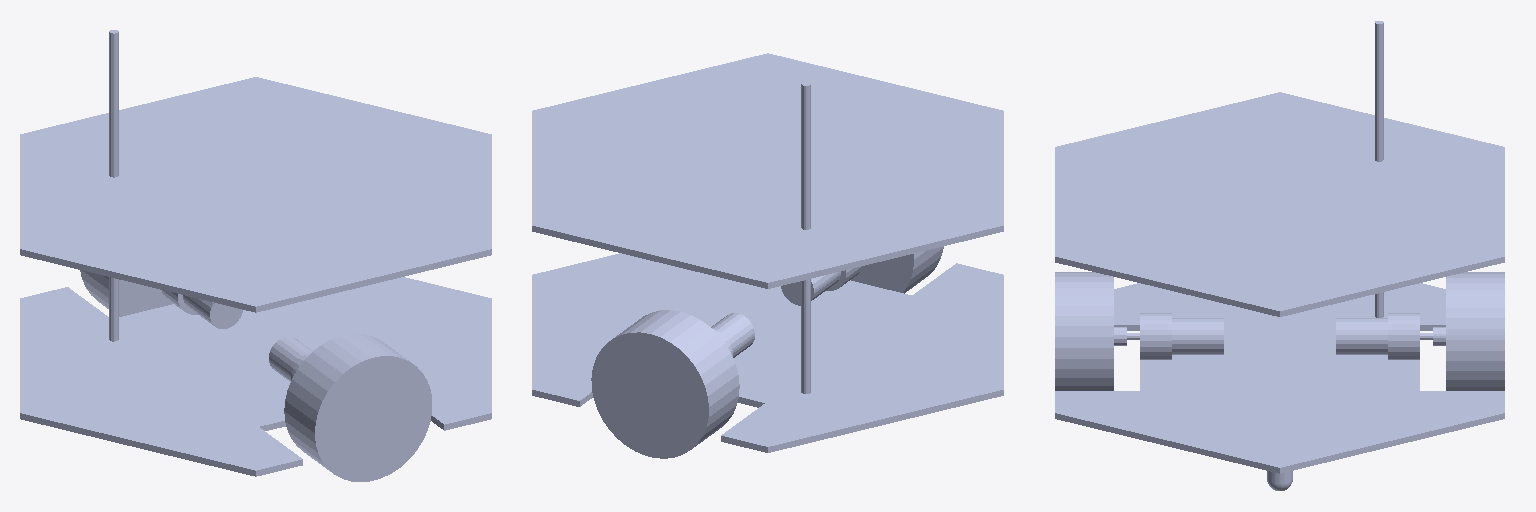
The robot description file, URDF, robot "beebot":
<?xml version="1.0" encoding="utf-8"?>
<!-- This URDF was automatically created by SolidWorks to URDF Exporter! Originally created by [author] ([email redacted]) 
     Commit Version: 1.5.1-0-g916b5db  Build Version: 1.5.7152.31018
     For more information, please see http://wiki.ros.org/sw_urdf_exporter -->
<robot
  name="beebot">
  <link
    name="base_link">
    <inertial>
      <origin
        xyz="-5.5511E-17 0 -0.0025"
        rpy="0 0 0" />
      <mass
        value="0.5" />
      <inertia
        ixx="0.0027593"
        ixy="3.2016E-20"
        ixz="5.1244E-22"
        iyy="0.0042374"
        iyz="-1.2762E-21"
        izz="0.006995" />
    </inertial>
    <visual>
      <origin
        xyz="0 0 0"
        rpy="0 0 0" />
      <geometry>
        <mesh
          filename="package://beebot/meshes/base_link.STL" />
      </geometry>
      <material
        name="">
        <color
          rgba="0.79216 0.81961 0.93333 1" />
      </material>
    </visual>
    <collision>
      <origin
        xyz="0 0 0"
        rpy="0 0 0" />
      <geometry>
        <mesh
          filename="package://beebot/meshes/base_link.STL" />
      </geometry>
    </collision>
  </link>
  <link
    name="rmotor">
    <inertial>
      <origin
        xyz="0.027211 0 0"
        rpy="0 0 0" />
      <mass
        value="0.75" />
      <inertia
        ixx="7.1598E-06"
        ixy="-4.0968E-38"
        ixz="2.5362E-22"
        iyy="2.4995E-05"
        iyz="-9.4953E-39"
        izz="2.4995E-05" />
    </inertial>
    <visual>
      <origin
        xyz="0 0 0"
        rpy="0 0 0" />
      <geometry>
        <mesh
          filename="package://beebot/meshes/rmotor.STL" />
      </geometry>
      <material
        name="">
        <color
          rgba="0.79216 0.81961 0.93333 1" />
      </material>
    </visual>
    <collision>
      <origin
        xyz="0 0 0"
        rpy="0 0 0" />
      <geometry>
        <mesh
          filename="package://beebot/meshes/rmotor.STL" />
      </geometry>
    </collision>
  </link>
  <joint
    name="base_to_rmotor"
    type="fixed">
    <origin
      xyz="0 -0.10821 0.0185"
      rpy="1.5708 0 1.5708" />
    <parent
      link="base_link" />
    <child
      link="rmotor" />
    <axis
      xyz="0 0 0" />
  </joint>
  <link
    name="rwheel">
    <inertial>
      <origin
        xyz="-0.032363 0 -5.5511E-17"
        rpy="0 0 0" />
      <mass
        value="0.35" />
      <inertia
        ixx="0.00044184"
        ixy="3.3923E-21"
        ixz="4.7782E-19"
        iyy="0.0002819"
        iyz="-2.7105E-20"
        izz="0.0002819" />
    </inertial>
    <visual>
      <origin
        xyz="0 0 0"
        rpy="0 0 0" />
      <geometry>
        <mesh
          filename="package://beebot/meshes/rwheel.STL" />
      </geometry>
      <material
        name="">
        <color
          rgba="0.79216 0.81961 0.93333 1" />
      </material>
    </visual>
    <collision>
      <origin
        xyz="0 0 0"
        rpy="0 0 0" />
      <geometry>
        <mesh
          filename="package://beebot/meshes/rwheel.STL" />
      </geometry>
    </collision>
  </link>
  <joint
    name="rmotor_to_rwheel"
    type="continuous">
    <origin
      xyz="-0.01 0 0"
      rpy="-0.59281 0 0" />
    <parent
      link="rmotor" />
    <child
      link="rwheel" />
    <axis
      xyz="1 0 0" />
  </joint>
  <link
    name="lmotor">
    <inertial>
      <origin
        xyz="0.027211 0 6.1062E-16"
        rpy="0 0 0" />
      <mass
        value="0.75" />
      <inertia
        ixx="7.1598E-06"
        ixy="4.5955E-36"
        ixz="-3.9079E-19"
        iyy="2.4995E-05"
        iyz="-9.5046E-36"
        izz="2.4995E-05" />
    </inertial>
    <visual>
      <origin
        xyz="0 0 0"
        rpy="0 0 0" />
      <geometry>
        <mesh
          filename="package://beebot/meshes/lmotor.STL" />
      </geometry>
      <material
        name="">
        <color
          rgba="0.79216 0.81961 0.93333 1" />
      </material>
    </visual>
    <collision>
      <origin
        xyz="0 0 0"
        rpy="0 0 0" />
      <geometry>
        <mesh
          filename="package://beebot/meshes/lmotor.STL" />
      </geometry>
    </collision>
  </link>
  <joint
    name="base_to_lmotor"
    type="fixed">
    <origin
      xyz="0 0.10821 0.0185"
      rpy="-1.5708 0 -1.5708" />
    <parent
      link="base_link" />
    <child
      link="lmotor" />
    <axis
      xyz="0 0 0" />
  </joint>
  <link
    name="lwheel">
    <inertial>
      <origin
        xyz="-0.032363 -5.3846E-15 -6.3283E-15"
        rpy="0 0 0" />
      <mass
        value="0.35" />
      <inertia
        ixx="0.00044184"
        ixy="-2.0982E-20"
        ixz="2.1683E-18"
        iyy="0.0002819"
        iyz="-2.7105E-20"
        izz="0.0002819" />
    </inertial>
    <visual>
      <origin
        xyz="0 0 0"
        rpy="0 0 0" />
      <geometry>
        <mesh
          filename="package://beebot/meshes/lwheel.STL" />
      </geometry>
      <material
        name="">
        <color
          rgba="0.79216 0.81961 0.93333 1" />
      </material>
    </visual>
    <collision>
      <origin
        xyz="0 0 0"
        rpy="0 0 0" />
      <geometry>
        <mesh
          filename="package://beebot/meshes/lwheel.STL" />
      </geometry>
    </collision>
  </link>
  <joint
    name="lmotor_to_lwheel"
    type="continuous">
    <origin
      xyz="-0.01 0 0"
      rpy="-2.6739 0 0" />
    <parent
      link="lmotor" />
    <child
      link="lwheel" />
    <axis
      xyz="1 0 0" />
  </joint>
  <link
    name="stud1">
    <inertial>
      <origin
        xyz="2.7756E-17 0.125 0"
        rpy="0 0 0" />
      <mass
        value="0.25" />
      <inertia
        ixx="5.014E-05"
        ixy="-8.1342E-39"
        ixz="9.9568E-57"
        iyy="5.8929E-08"
        iyz="-1.7467E-38"
        izz="5.014E-05" />
    </inertial>
    <visual>
      <origin
        xyz="0 0 0"
        rpy="0 0 0" />
      <geometry>
        <mesh
          filename="package://beebot/meshes/stud1.STL" />
      </geometry>
      <material
        name="">
        <color
          rgba="0.79216 0.81961 0.93333 1" />
      </material>
    </visual>
    <collision>
      <origin
        xyz="0 0 0"
        rpy="0 0 0" />
      <geometry>
        <mesh
          filename="package://beebot/meshes/stud1.STL" />
      </geometry>
    </collision>
  </link>
  <joint
    name="base_to_stud1"
    type="fixed">
    <origin
      xyz="0.076513 0.076513 0"
      rpy="1.5708 0 1.5708" />
    <parent
      link="base_link" />
    <child
      link="stud1" />
    <axis
      xyz="0 1 0" />
  </joint>
  <link
    name="stud2">
    <inertial>
      <origin
        xyz="0 0.125 0"
        rpy="0 0 0" />
      <mass
        value="0.25" />
      <inertia
        ixx="5.014E-05"
        ixy="-8.1342E-39"
        ixz="9.9568E-57"
        iyy="5.8929E-08"
        iyz="-1.7467E-38"
        izz="5.014E-05" />
    </inertial>
    <visual>
      <origin
        xyz="0 0 0"
        rpy="0 0 0" />
      <geometry>
        <mesh
          filename="package://beebot/meshes/stud2.STL" />
      </geometry>
      <material
        name="">
        <color
          rgba="0.79216 0.81961 0.93333 1" />
      </material>
    </visual>
    <collision>
      <origin
        xyz="0 0 0"
        rpy="0 0 0" />
      <geometry>
        <mesh
          filename="package://beebot/meshes/stud2.STL" />
      </geometry>
    </collision>
  </link>
  <joint
    name="base_to_stud2"
    type="fixed">
    <origin
      xyz="0.076513 -0.076513 0"
      rpy="1.5708 0 1.5708" />
    <parent
      link="base_link" />
    <child
      link="stud2" />
    <axis
      xyz="0 1 0" />
  </joint>
  <link
    name="stud3">
    <inertial>
      <origin
        xyz="-2.7756E-17 0.125 2.7756E-17"
        rpy="0 0 0" />
      <mass
        value="0.25" />
      <inertia
        ixx="5.014E-05"
        ixy="-8.1342E-39"
        ixz="9.9568E-57"
        iyy="5.8929E-08"
        iyz="-1.7467E-38"
        izz="5.014E-05" />
    </inertial>
    <visual>
      <origin
        xyz="0 0 0"
        rpy="0 0 0" />
      <geometry>
        <mesh
          filename="package://beebot/meshes/stud3.STL" />
      </geometry>
      <material
        name="">
        <color
          rgba="0.79216 0.81961 0.93333 1" />
      </material>
    </visual>
    <collision>
      <origin
        xyz="0 0 0"
        rpy="0 0 0" />
      <geometry>
        <mesh
          filename="package://beebot/meshes/stud3.STL" />
      </geometry>
    </collision>
  </link>
  <joint
    name="base_to_stud3"
    type="fixed">
    <origin
      xyz="-0.076513 0.076513 0"
      rpy="1.5708 0 1.5708" />
    <parent
      link="base_link" />
    <child
      link="stud3" />
    <axis
      xyz="0 1 0" />
  </joint>
  <link
    name="stud4">
    <inertial>
      <origin
        xyz="0 0.125 -2.7756E-17"
        rpy="0 0 0" />
      <mass
        value="0.25" />
      <inertia
        ixx="5.014E-05"
        ixy="-8.1342E-39"
        ixz="9.9568E-57"
        iyy="5.8929E-08"
        iyz="-1.7467E-38"
        izz="5.014E-05" />
    </inertial>
    <visual>
      <origin
        xyz="0 0 0"
        rpy="0 0 0" />
      <geometry>
        <mesh
          filename="package://beebot/meshes/stud4.STL" />
      </geometry>
      <material
        name="">
        <color
          rgba="0.79216 0.81961 0.93333 1" />
      </material>
    </visual>
    <collision>
      <origin
        xyz="0 0 0"
        rpy="0 0 0" />
      <geometry>
        <mesh
          filename="package://beebot/meshes/stud4.STL" />
      </geometry>
    </collision>
  </link>
  <joint
    name="base_to_stud4"
    type="fixed">
    <origin
      xyz="-0.076513 -0.076513 0"
      rpy="1.5708 0 1.5708" />
    <parent
      link="base_link" />
    <child
      link="stud4" />
    <axis
      xyz="0 1 0" />
  </joint>
  <link
    name="front_caster">
    <inertial>
      <origin
        xyz="0 -0.011703 0"
        rpy="0 0 0" />
      <mass
        value="0.1" />
      <inertia
        ixx="5.1632E-07"
        ixy="4.5981E-23"
        ixz="4.1322E-23"
        iyy="3.4296E-07"
        iyz="-6.2946E-23"
        izz="5.1632E-07" />
    </inertial>
    <visual>
      <origin
        xyz="0 0 0"
        rpy="0 0 0" />
      <geometry>
        <mesh
          filename="package://beebot/meshes/front_caster.STL" />
      </geometry>
      <material
        name="">
        <color
          rgba="0.79216 0.81961 0.93333 1" />
      </material>
    </visual>
    <collision>
      <origin
        xyz="0 0 0"
        rpy="0 0 0" />
      <geometry>
        <mesh
          filename="package://beebot/meshes/front_caster.STL" />
      </geometry>
    </collision>
  </link>
  <joint
    name="base_to_front_caster"
    type="fixed">
    <origin
      xyz="0.17321 0 -0.005"
      rpy="1.5708 0 1.5708" />
    <parent
      link="base_link" />
    <child
      link="front_caster" />
    <axis
      xyz="0 0 0" />
  </joint>
  <link
    name="back_caster">
    <inertial>
      <origin
        xyz="0 -0.011703 0"
        rpy="0 0 0" />
      <mass
        value="0.1" />
      <inertia
        ixx="5.1632E-07"
        ixy="4.8294E-23"
        ixz="1.3972E-22"
        iyy="3.4296E-07"
        iyz="3.104E-23"
        izz="5.1632E-07" />
    </inertial>
    <visual>
      <origin
        xyz="0 0 0"
        rpy="0 0 0" />
      <geometry>
        <mesh
          filename="package://beebot/meshes/back_caster.STL" />
      </geometry>
      <material
        name="">
        <color
          rgba="0.79216 0.81961 0.93333 1" />
      </material>
    </visual>
    <collision>
      <origin
        xyz="0 0 0"
        rpy="0 0 0" />
      <geometry>
        <mesh
          filename="package://beebot/meshes/back_caster.STL" />
      </geometry>
    </collision>
  </link>
  <joint
    name="base_to_back_caster"
    type="fixed">
    <origin
      xyz="-0.17321 0 -0.005"
      rpy="1.5708 0 1.5708" />
    <parent
      link="base_link" />
    <child
      link="back_caster" />
    <axis
      xyz="0 1 0" />
  </joint>
  <link
    name="level2">
    <inertial>
      <origin
        xyz="-1.1102E-16 0.0025 -1.1102E-16"
        rpy="0 0 0" />
      <mass
        value="0.25" />
      <inertia
        ixx="0.0043312"
        ixy="1.3524E-21"
        ixz="3.1983E-18"
        iyy="0.0086603"
        iyz="-4.2477E-21"
        izz="0.0043312" />
    </inertial>
    <visual>
      <origin
        xyz="0 0 0"
        rpy="0 0 0" />
      <geometry>
        <mesh
          filename="package://beebot/meshes/level2.STL" />
      </geometry>
      <material
        name="">
        <color
          rgba="0.79216 0.81961 0.93333 1" />
      </material>
    </visual>
    <collision>
      <origin
        xyz="0 0 0"
        rpy="0 0 0" />
      <geometry>
        <mesh
          filename="package://beebot/meshes/level2.STL" />
      </geometry>
    </collision>
  </link>
  <joint
    name="base_to_level2"
    type="fixed">
    <origin
      xyz="0 0 0.12811"
      rpy="1.5708 0 1.5708" />
    <parent
      link="base_link" />
    <child
      link="level2" />
    <axis
      xyz="0 1 0" />
    <limit
      lower="0"
      upper="0"
      effort="0"
      velocity="0" />
  </joint>
  <link
    name="level3">
    <inertial>
      <origin
        xyz="0 0 0"
        rpy="0 0 0" />
      <mass
        value="0.25" />
      <inertia
        ixx="0"
        ixy="0"
        ixz="0"
        iyy="0"
        iyz="0"
        izz="0" />
    </inertial>
    <visual>
      <origin
        xyz="0 0 0"
        rpy="0 0 0" />
      <geometry>
        <mesh
          filename="package://beebot/meshes/level3.STL" />
      </geometry>
      <material
        name="">
        <color
          rgba="1 1 1 1" />
      </material>
    </visual>
    <collision>
      <origin
        xyz="0 0 0"
        rpy="0 0 0" />
      <geometry>
        <mesh
          filename="package://beebot/meshes/level3.STL" />
      </geometry>
    </collision>
  </link>
  <joint
    name="base_to_level3"
    type="fixed">
    <origin
      xyz="0 0 0.245"
      rpy="1.5708 0 1.5708" />
    <parent
      link="base_link" />
    <child
      link="level3" />
    <axis
      xyz="0 0 0" />
  </joint>
</robot>

--- Render facts (derived) ---
The picture shows the robot from 3 angles, left to right: view 1: azimuth 30°, elevation 25°; view 2: azimuth 150°, elevation 25°; view 3: azimuth 270°, elevation 25°; orthographic projection.
Robot: beebot — 13 links, 12 joints (2 continuous, 10 fixed); root link base_link; default pose: every joint at zero.
Visible links, largest first — view 1: level2, base_link, rwheel, stud3, lwheel, lmotor, rmotor; view 2: level2, base_link, lwheel, stud3, rwheel, lmotor, rmotor; view 3: level2, base_link, rwheel, lwheel, rmotor, lmotor, stud3.
Link boxes in pixels (box(x1,y1,x2,y2)): level2: box(20, 77, 491, 312); base_link: box(20, 277, 491, 476); rwheel: box(284, 334, 431, 481); stud3: box(109, 30, 118, 341); lwheel: box(80, 270, 172, 316); lmotor: box(162, 290, 242, 328); rmotor: box(269, 337, 312, 381); level2: box(532, 53, 1003, 288); base_link: box(532, 253, 1003, 452); lwheel: box(591, 310, 739, 458); stud3: box(801, 82, 810, 393); rwheel: box(851, 246, 943, 293); lmotor: box(711, 313, 754, 357); rmotor: box(781, 266, 862, 305); level2: box(1055, 92, 1504, 316); base_link: box(1055, 283, 1504, 473); rwheel: box(1055, 272, 1126, 390); lwheel: box(1433, 272, 1504, 390); rmotor: box(1127, 313, 1223, 359); lmotor: box(1336, 313, 1432, 359); stud3: box(1375, 21, 1383, 317).
Bounding box of the posed robot: 0.4 × 0.3464 × 0.2815 m (x, y, z).
Meshes: 13 distinct files referenced, 8 mesh visuals loaded (8 binary STL); not drawn: 5 (reference not matched to a file when rendering).
